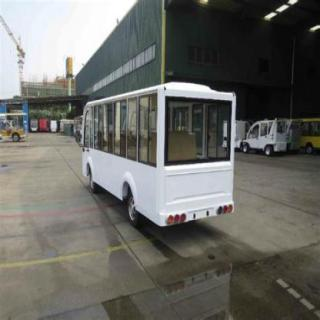Normal_vehicle: (70, 72, 244, 240)
